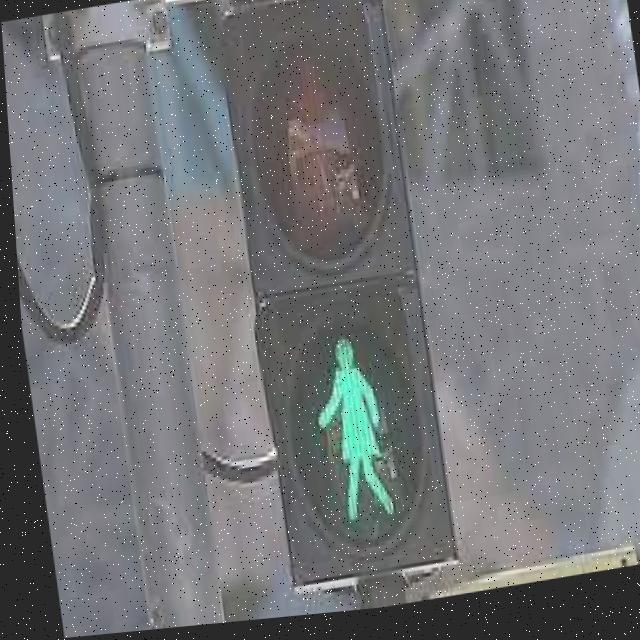green_light: (290, 327, 420, 546)
